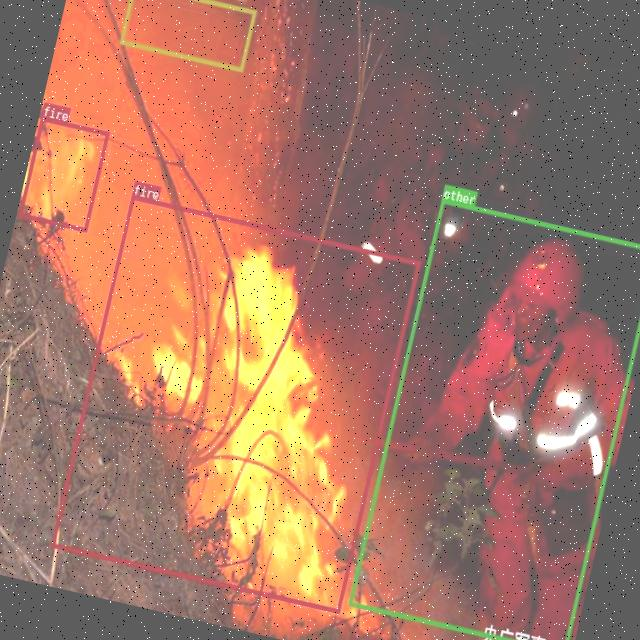fire: (49, 194, 420, 612), (18, 116, 109, 232)
smoke: (118, 0, 255, 71)
